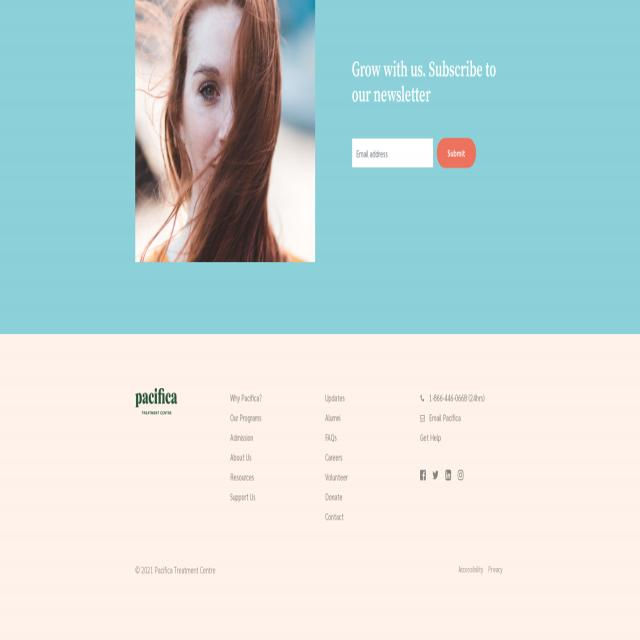button: (135, 0, 315, 262), (436, 138, 476, 168), (135, 388, 177, 414), (432, 467, 439, 483), (420, 467, 426, 483), (445, 467, 451, 483), (458, 467, 463, 483)
field: (352, 138, 433, 168)
